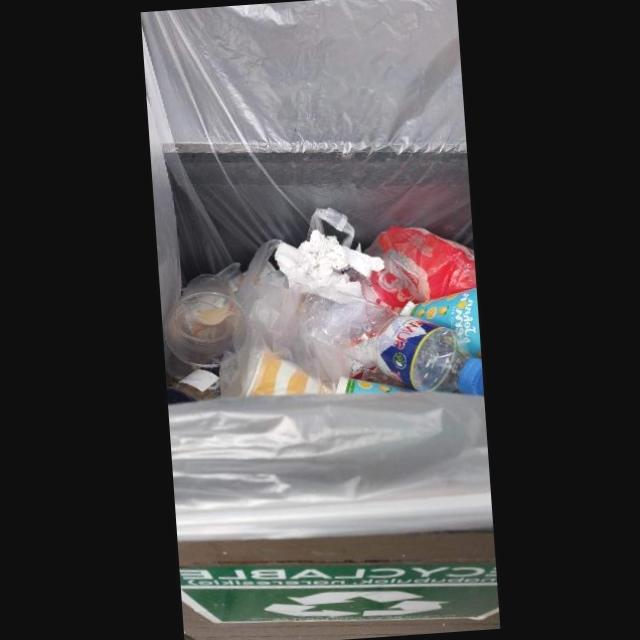chai_nhua_pet: (298, 286, 484, 396)
giay: (274, 229, 384, 297)
hop_nhua: (164, 273, 247, 368)
tui_ni_long: (219, 239, 350, 397), (361, 226, 476, 314)
